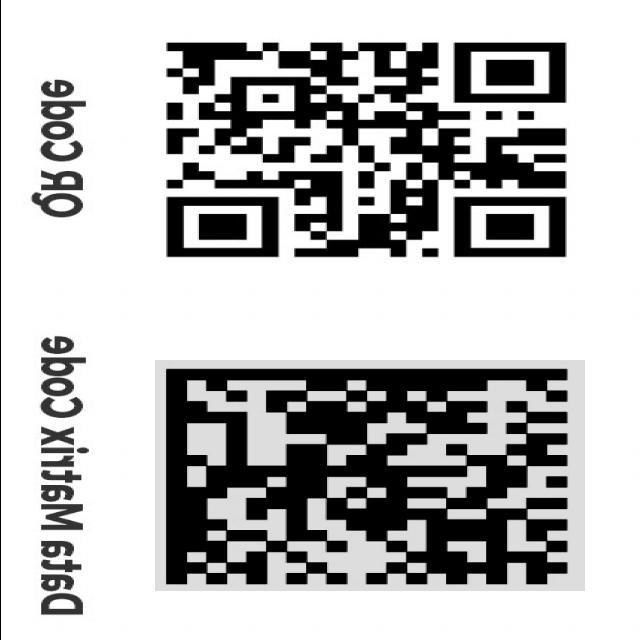Data-Matrix: (154, 360, 584, 591)
